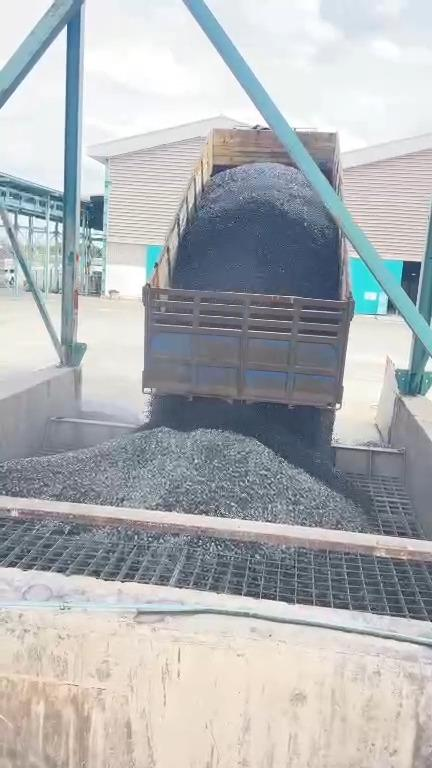gravel: (0, 427, 367, 530), (172, 163, 337, 298), (95, 529, 293, 563)
